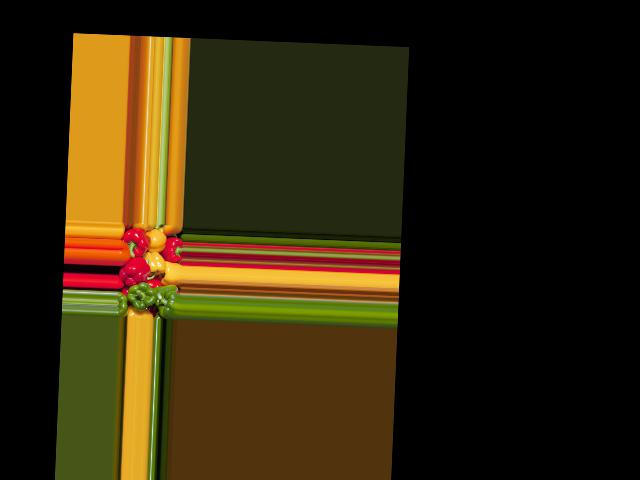bell_pepper: (115, 291, 131, 317)
